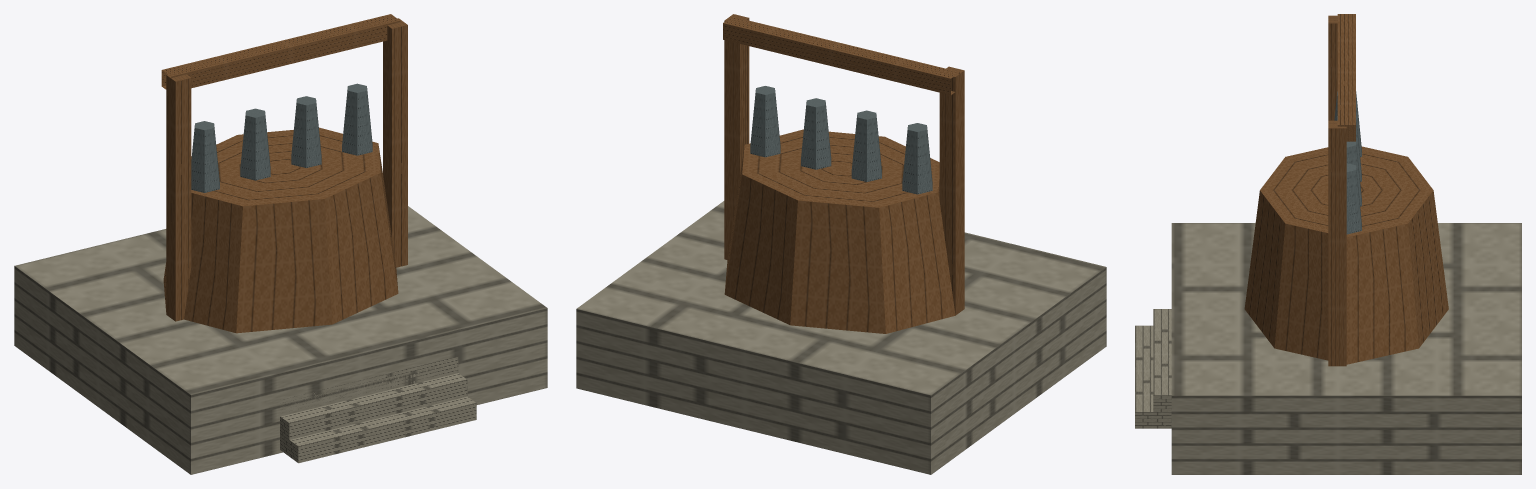
Rendered from military-MUSIC-1-lod1.glb.
3 renders of one model, left to right at view 1: azimuth 30°, elevation 25°; view 2: azimuth 150°, elevation 25°; view 3: azimuth 270°, elevation 25°, orthographic.
Size of the model in its own units: 0.56 by 0.4825 by 0.53.
Materials: 1 (1 with a texture image).
